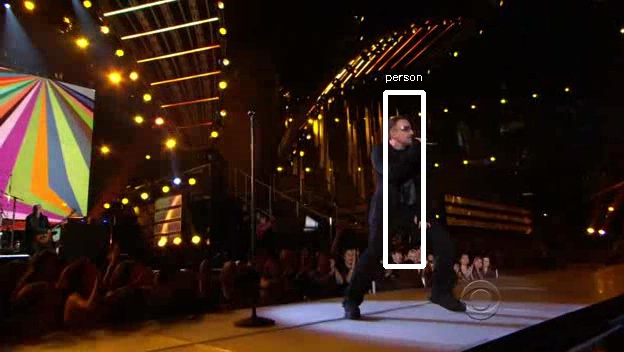person: (369, 118, 440, 247), (366, 118, 437, 247), (372, 118, 443, 247), (369, 115, 440, 244), (369, 121, 440, 250)
target_negative: (217, 227, 489, 350), (485, 93, 552, 322), (246, 252, 583, 277), (121, 300, 265, 309), (20, 337, 324, 338), (211, 233, 217, 248)
